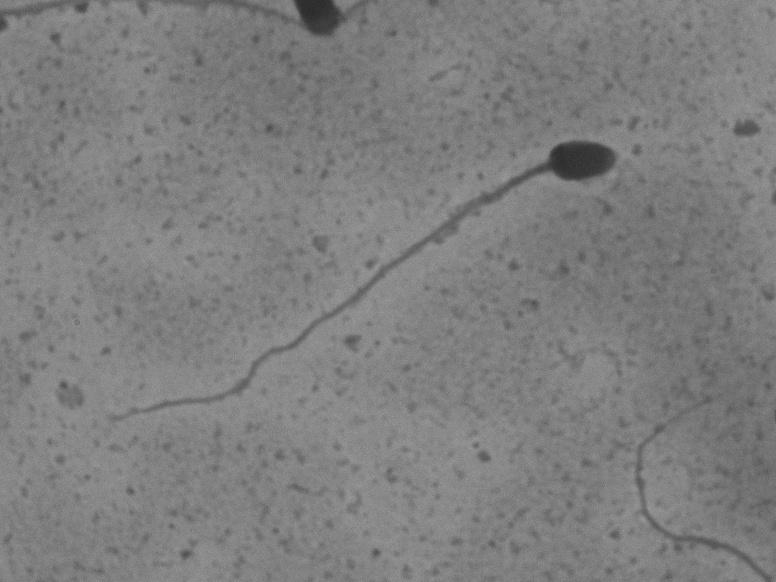Abnormal: (104, 111, 637, 461)
